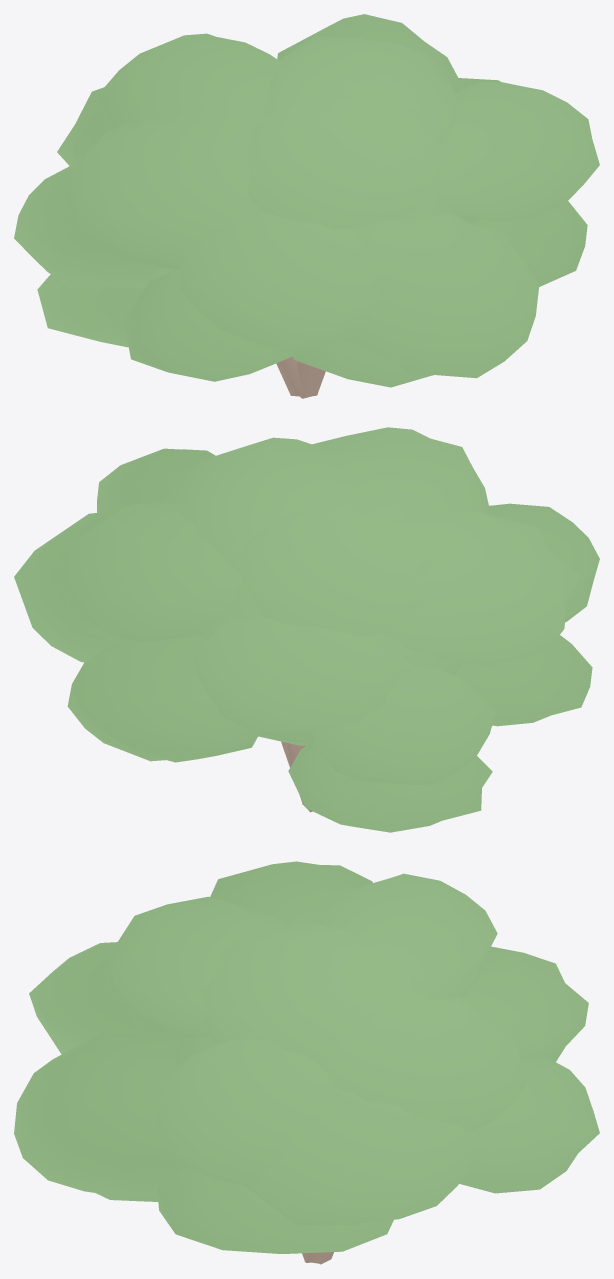
Rendered from Blender_Shrub_2.glb.
The picture shows the model from 3 angles, top to bottom: view 1: azimuth 30°, elevation 25°; view 2: azimuth 150°, elevation 25°; view 3: azimuth 270°, elevation 25°; orthographic projection. The views are drawn at different scales.
Parts seen in each view (by area): view 1: Blender_Shrub_2; view 2: Blender_Shrub_2; view 3: Blender_Shrub_2.
Boxes of the visible parts, x1,y1,x2,y2 form: Blender_Shrub_2: [14, 14, 599, 398]; Blender_Shrub_2: [14, 427, 599, 832]; Blender_Shrub_2: [14, 861, 599, 1264].
Bounding box in the file's own units: 2.03 × 1.3 × 1.99.
